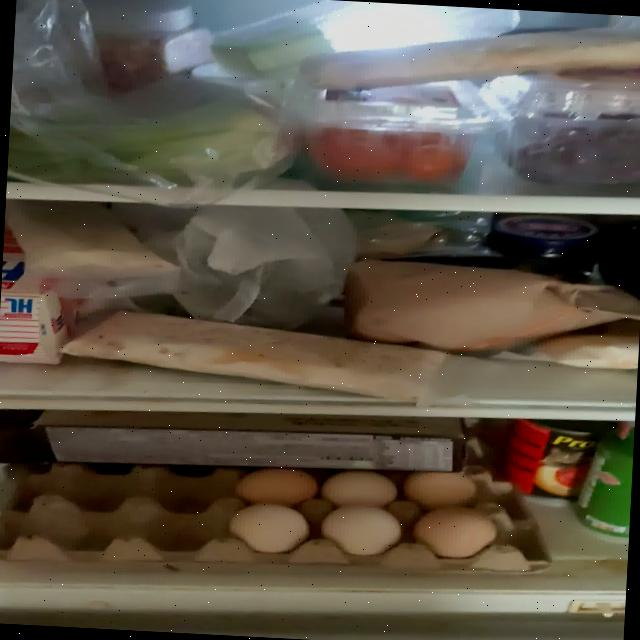egg: (0, 447, 553, 590)
leafy_greens: (7, 92, 287, 192)
tempeh: (58, 306, 448, 404), (2, 200, 185, 284)
unknown_bag: (166, 201, 358, 331)
